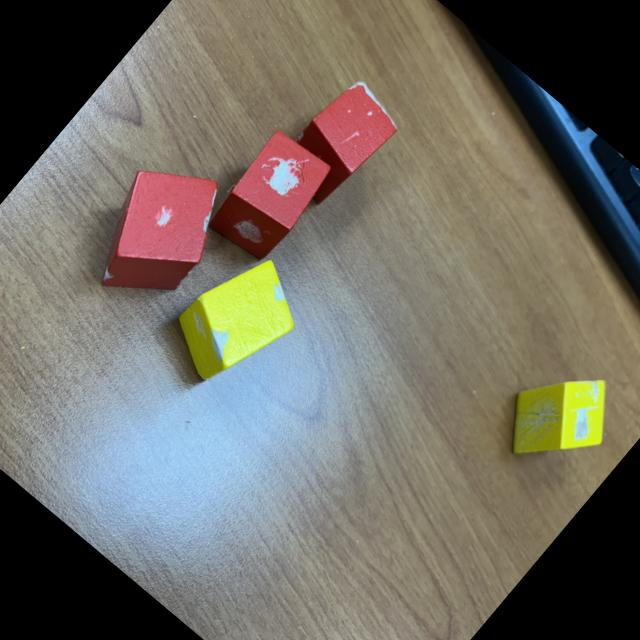broken: (66, 138, 248, 325), (156, 237, 318, 404), (484, 341, 635, 494), (199, 123, 339, 270), (270, 70, 408, 213)
